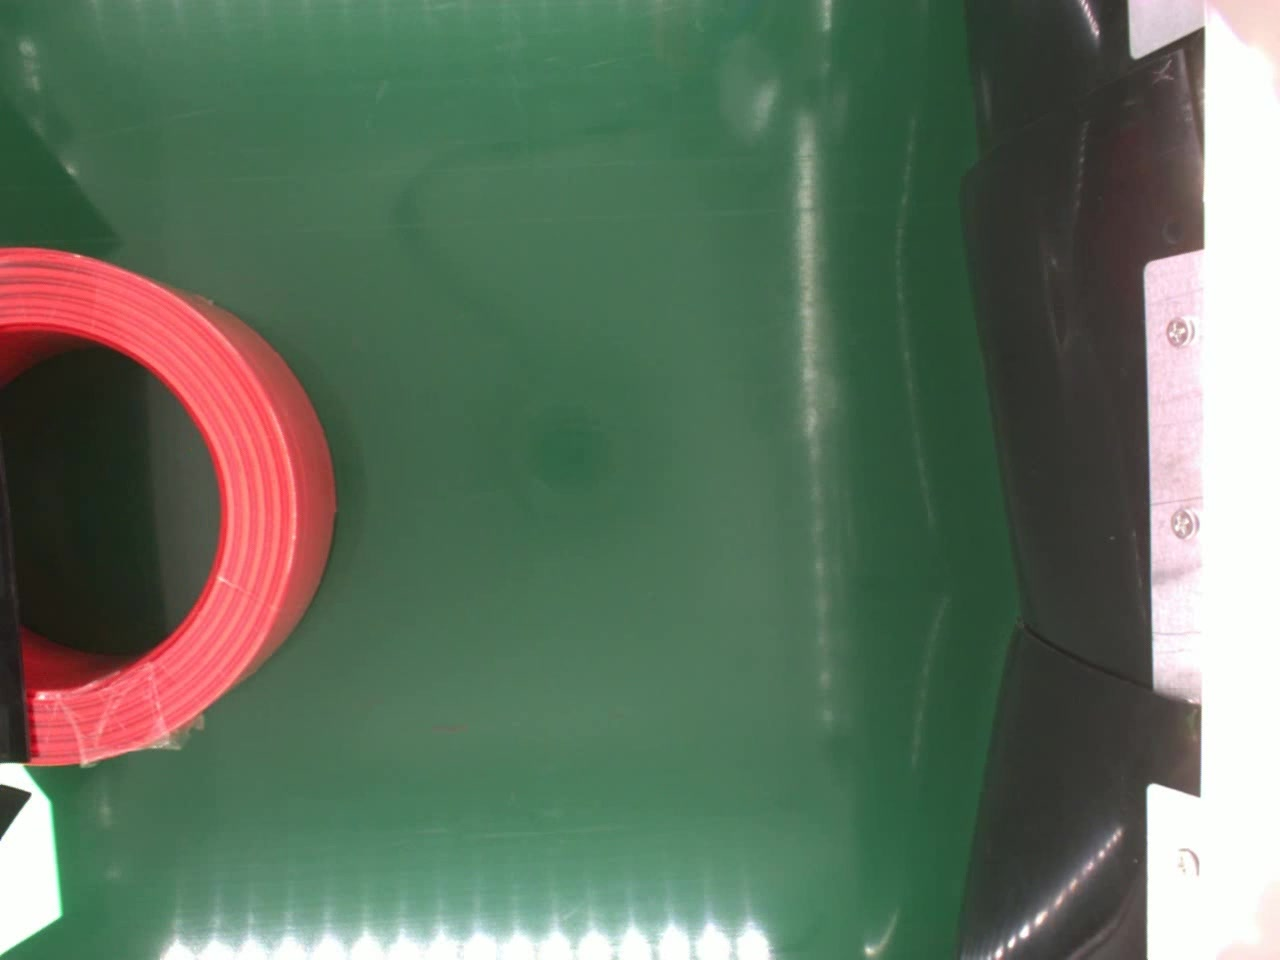red: (0, 242, 338, 773)
